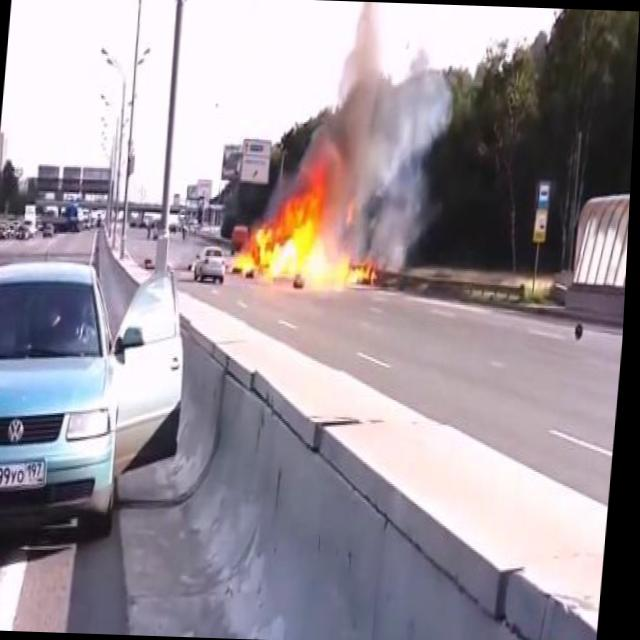fire: (230, 159, 402, 298)
